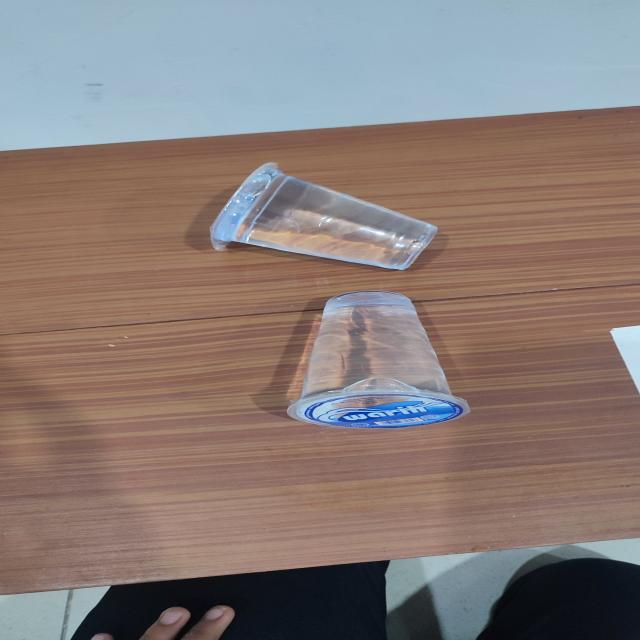air gelas: (185, 158, 466, 273), (283, 292, 518, 427)
